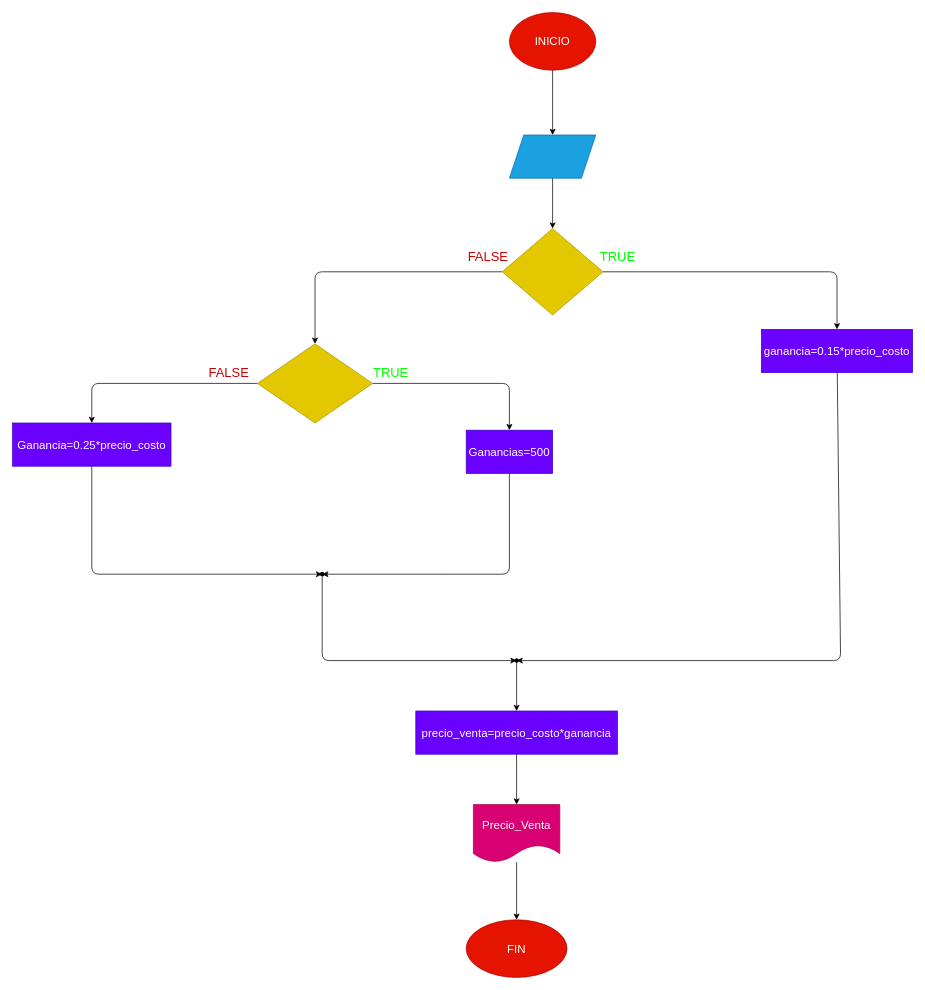
This 925x990 diagram has some shape labels left out. The box of each missing label's shape, as (x1, y1, x2, y2) in pixels:
Precio_costo: (509, 134, 596, 178)
Precio_costo<300: (501, 228, 603, 315)
Precio_costo<=6000: (257, 343, 373, 423)
